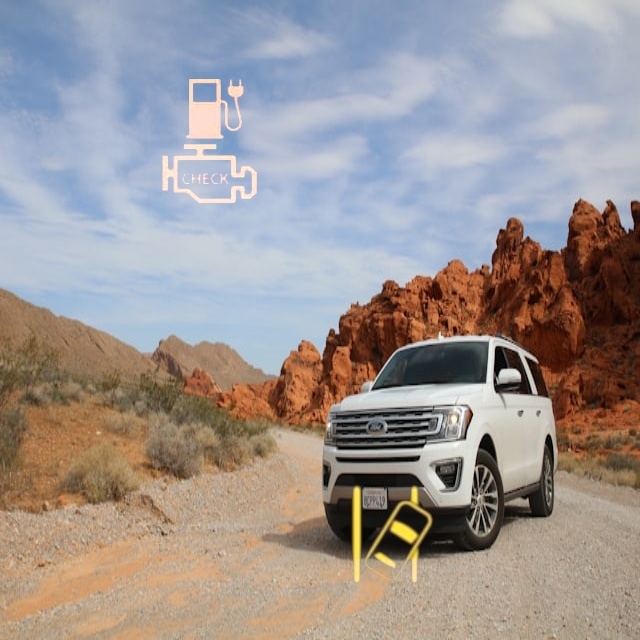symbol: (96, 43, 309, 256), (321, 467, 463, 609), (139, 105, 278, 244), (155, 50, 275, 170)
